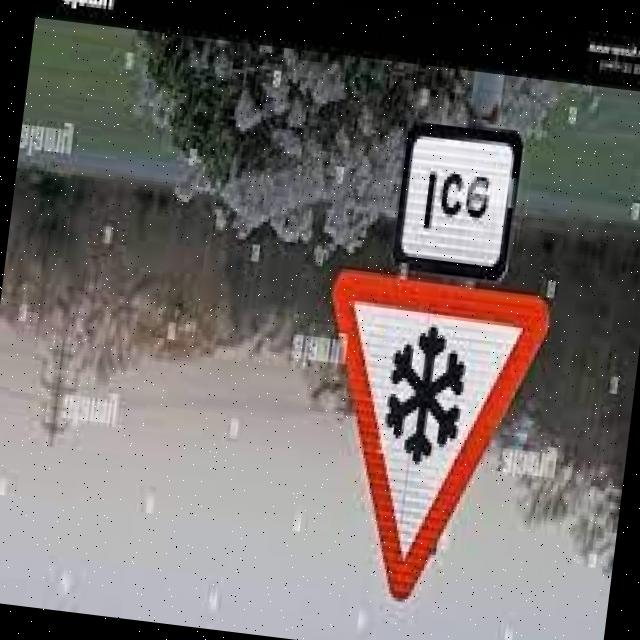snow_warning: (288, 248, 566, 627)
